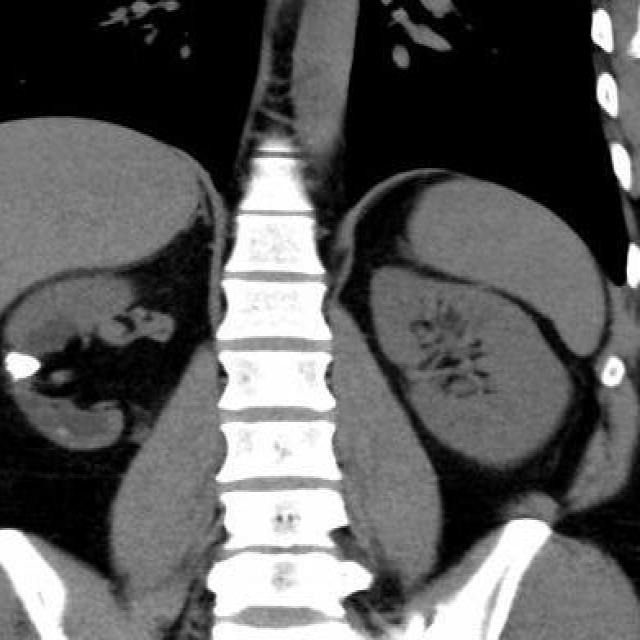Tas_Var: (2, 343, 48, 387)
